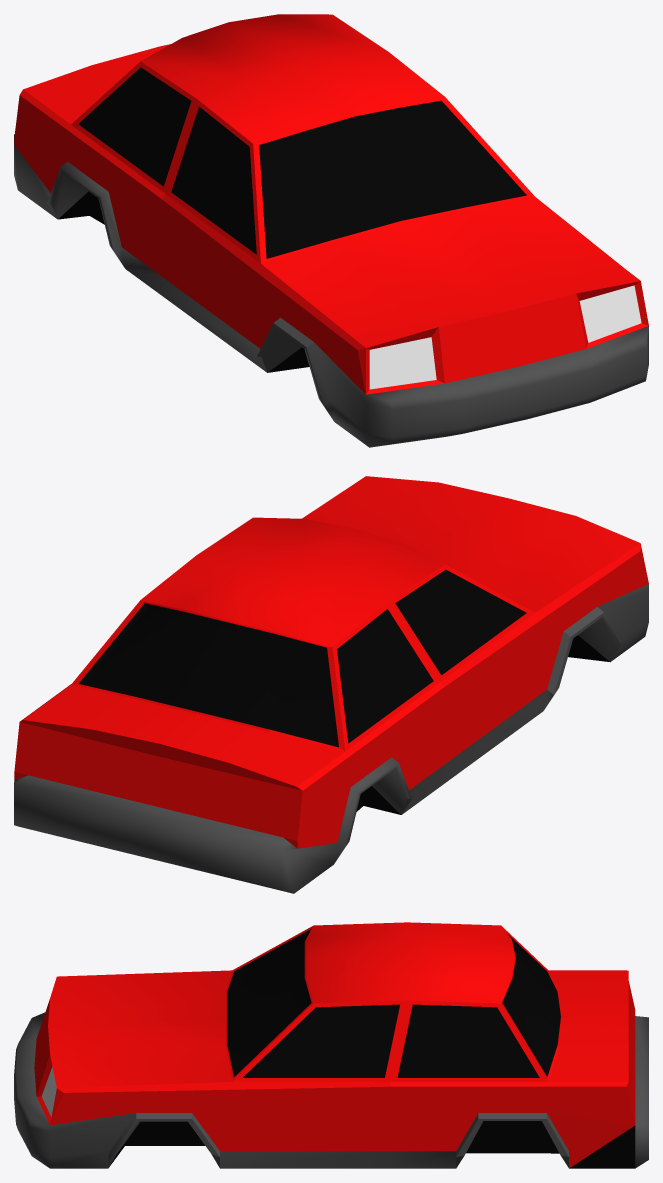
File: Car2.fbx
The picture shows the model from 3 angles, top to bottom: view 1: azimuth 30°, elevation 25°; view 2: azimuth 150°, elevation 25°; view 3: azimuth 270°, elevation 25°; orthographic projection. The views are drawn at different scales.
Visible parts, largest first — view 1: Car; view 2: Car; view 3: Car.
Part boxes in pixels (x1,y1,x2,y2): Car: [14, 14, 648, 447]; Car: [14, 476, 648, 893]; Car: [14, 922, 648, 1168].
Bounding box in the file's own units: 210 × 132 × 466.
